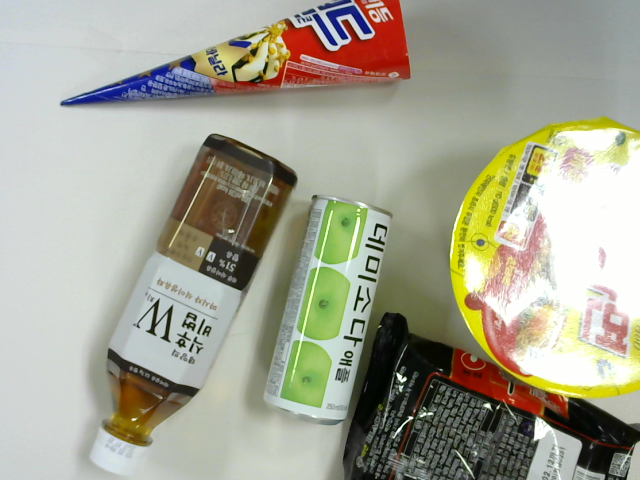Demisoda_Apple_Can_250ml: (264, 195, 394, 429)
Jinlamyeon_Hot_Taste_Large_Cup: (449, 124, 640, 398)
Post-meal_recipe_W_tea_500ml: (83, 134, 293, 469)
Sinramen_Black: (344, 319, 635, 480)
World_Cone_Banila: (61, 1, 410, 105)
